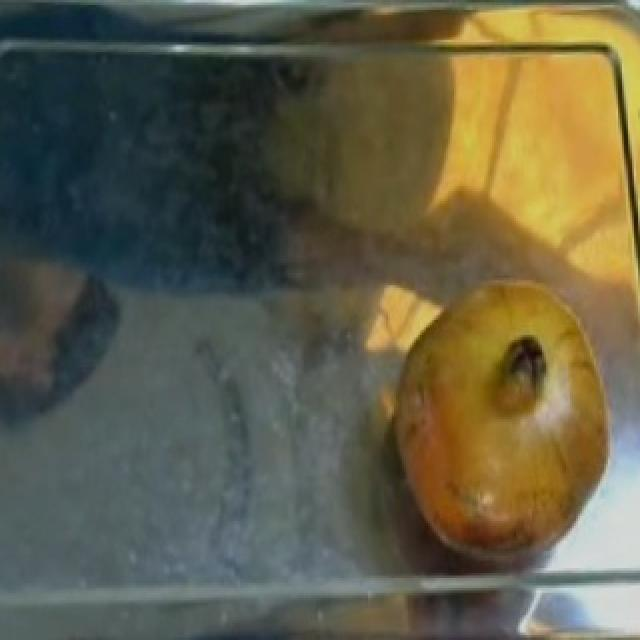fruit: (370, 258, 626, 516)
